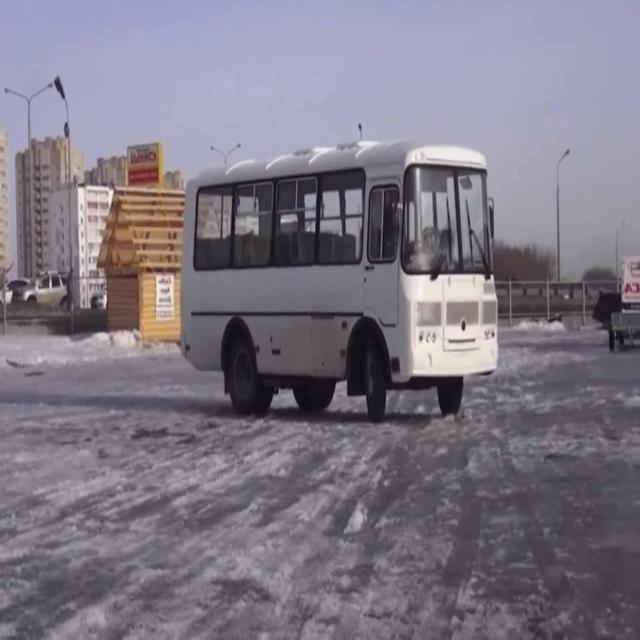bus: (180, 133, 505, 425)
